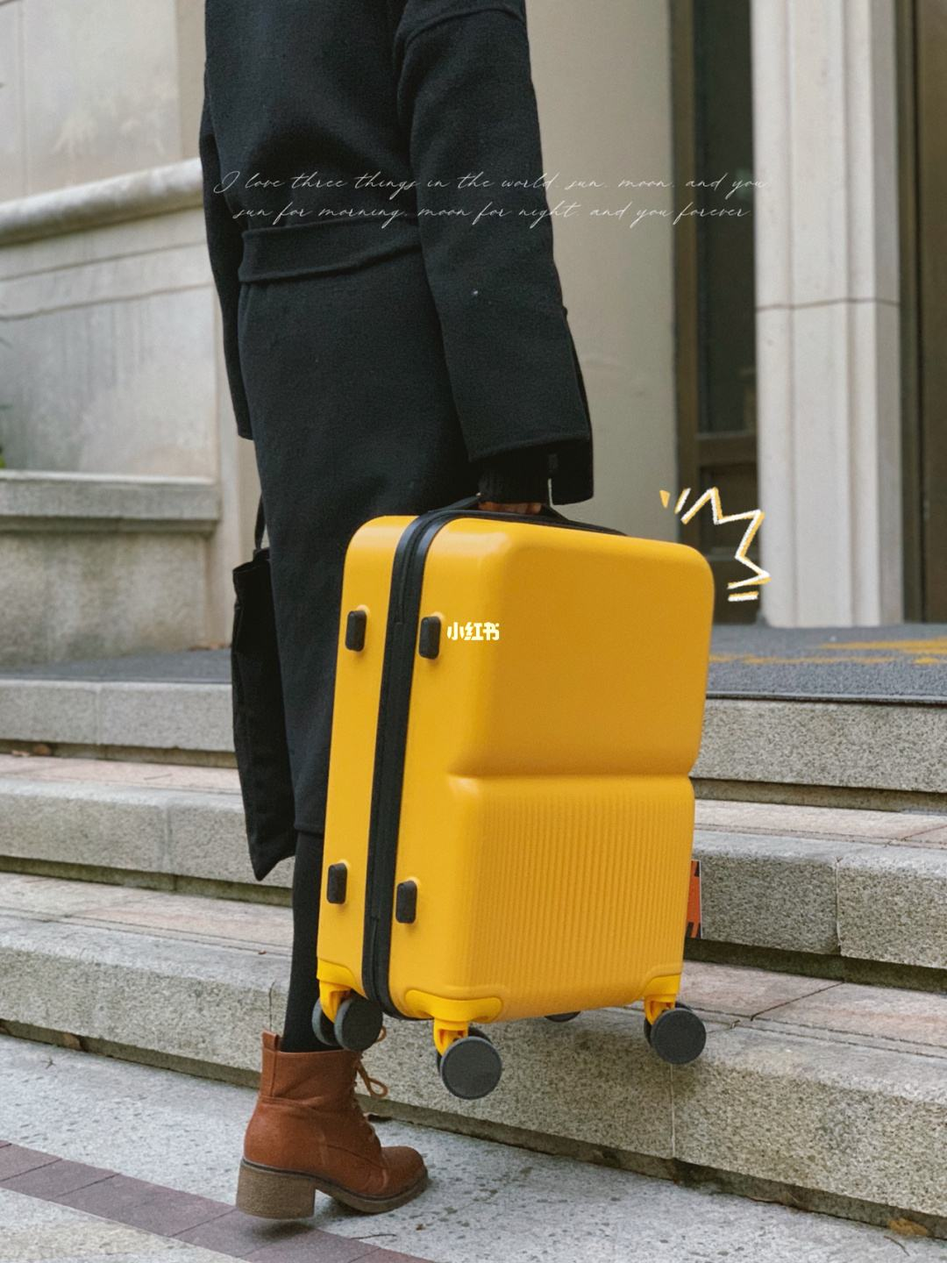box: (315, 514, 716, 1017)
handle: (422, 495, 572, 521)
wheel: (436, 1027, 504, 1100), (311, 995, 384, 1052), (644, 1001, 707, 1065)
